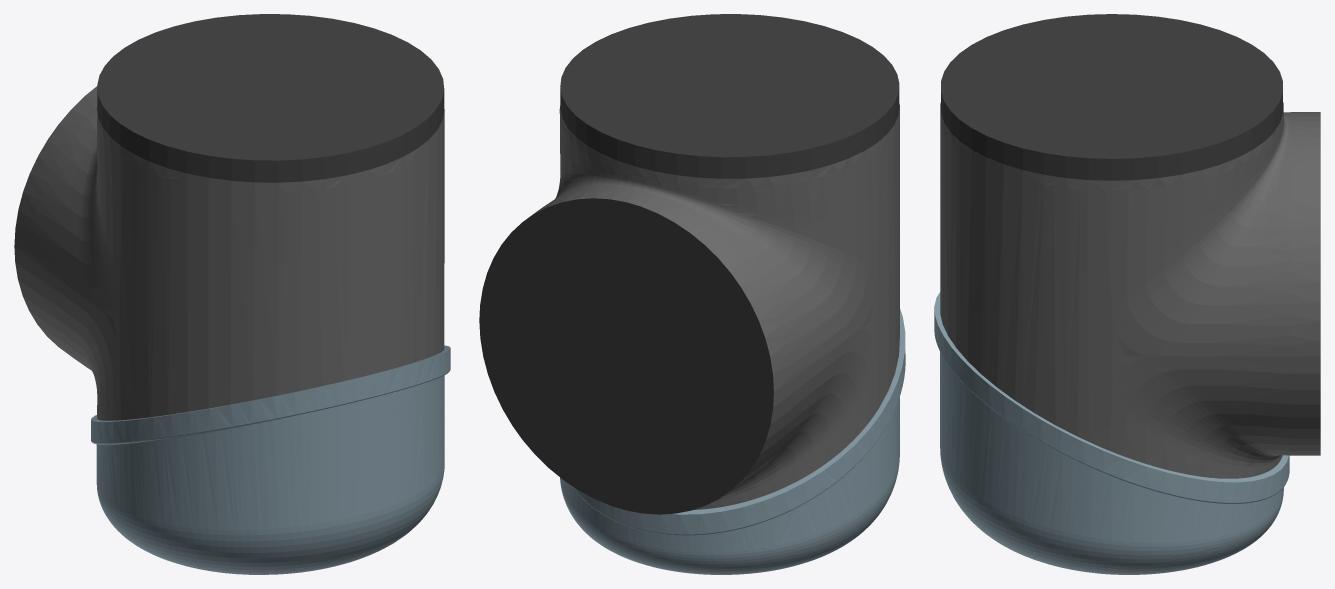
The picture shows the model from 3 angles, left to right: view 1: azimuth 30°, elevation 25°; view 2: azimuth 150°, elevation 25°; view 3: azimuth 270°, elevation 25°; orthographic projection. The views are drawn at different scales.
Parts seen in each view (by area): view 1: visual_0_1, visual_0_2, visual_0_0; view 2: visual_0_0, visual_0_1, visual_0_2; view 3: visual_0_1, visual_0_0, visual_0_2.
Part boxes in pixels (bbox=[...]): visual_0_1: bbox=[14, 86, 444, 420]; visual_0_2: bbox=[91, 345, 450, 574]; visual_0_0: bbox=[96, 14, 444, 182]; visual_0_0: bbox=[479, 14, 899, 514]; visual_0_1: bbox=[527, 107, 899, 509]; visual_0_2: bbox=[560, 309, 905, 574]; visual_0_1: bbox=[940, 112, 1320, 478]; visual_0_0: bbox=[940, 14, 1283, 180]; visual_0_2: bbox=[934, 292, 1289, 574].
Bounding box in the file's own units: 0.0775 × 0.1047 × 0.0842.
